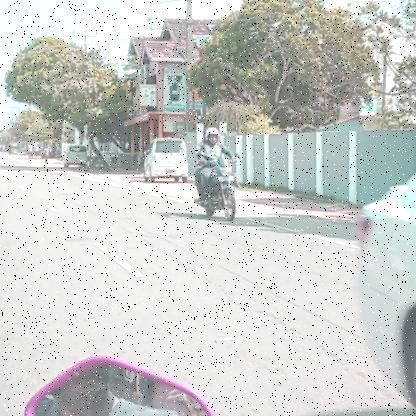motorcycle: (193, 157, 240, 225)
